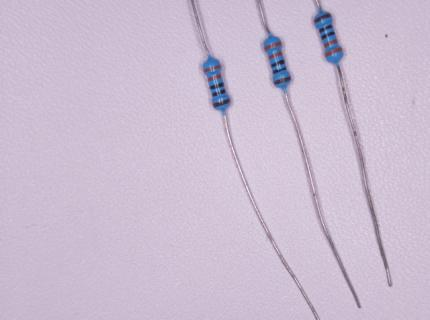Black band: (319, 25, 332, 33), (210, 82, 224, 89), (322, 32, 334, 40), (272, 59, 284, 67), (273, 67, 286, 74), (212, 89, 225, 96)
Brown band: (314, 13, 331, 23), (213, 98, 230, 107), (274, 76, 291, 85)
Orange band: (264, 42, 282, 51), (325, 48, 342, 57), (323, 39, 337, 48), (204, 65, 221, 72), (208, 74, 222, 82), (269, 52, 282, 60)
